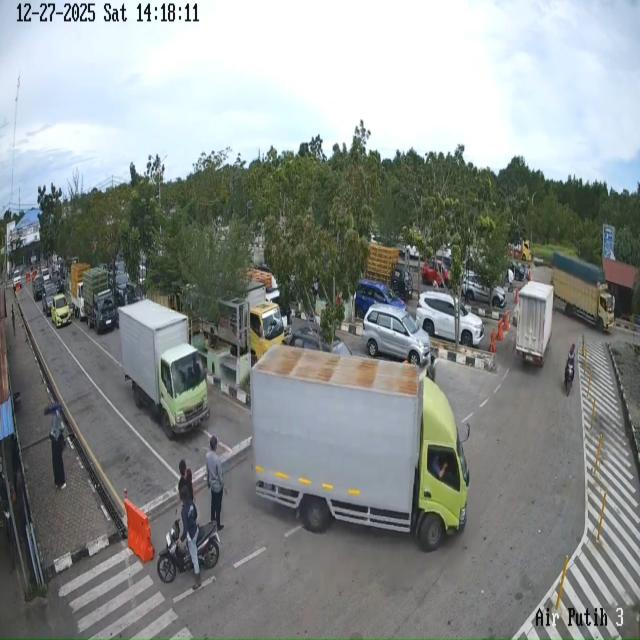Golongan IVA: (362, 304, 430, 366), (416, 290, 484, 348), (354, 278, 406, 319), (462, 271, 506, 308), (50, 294, 72, 328), (42, 280, 57, 316), (32, 275, 44, 301)
Golongan IVB: (82, 267, 118, 334), (69, 262, 90, 321)
Golongan VB: (250, 346, 470, 551), (120, 299, 210, 439), (552, 252, 614, 332), (516, 281, 554, 367)
